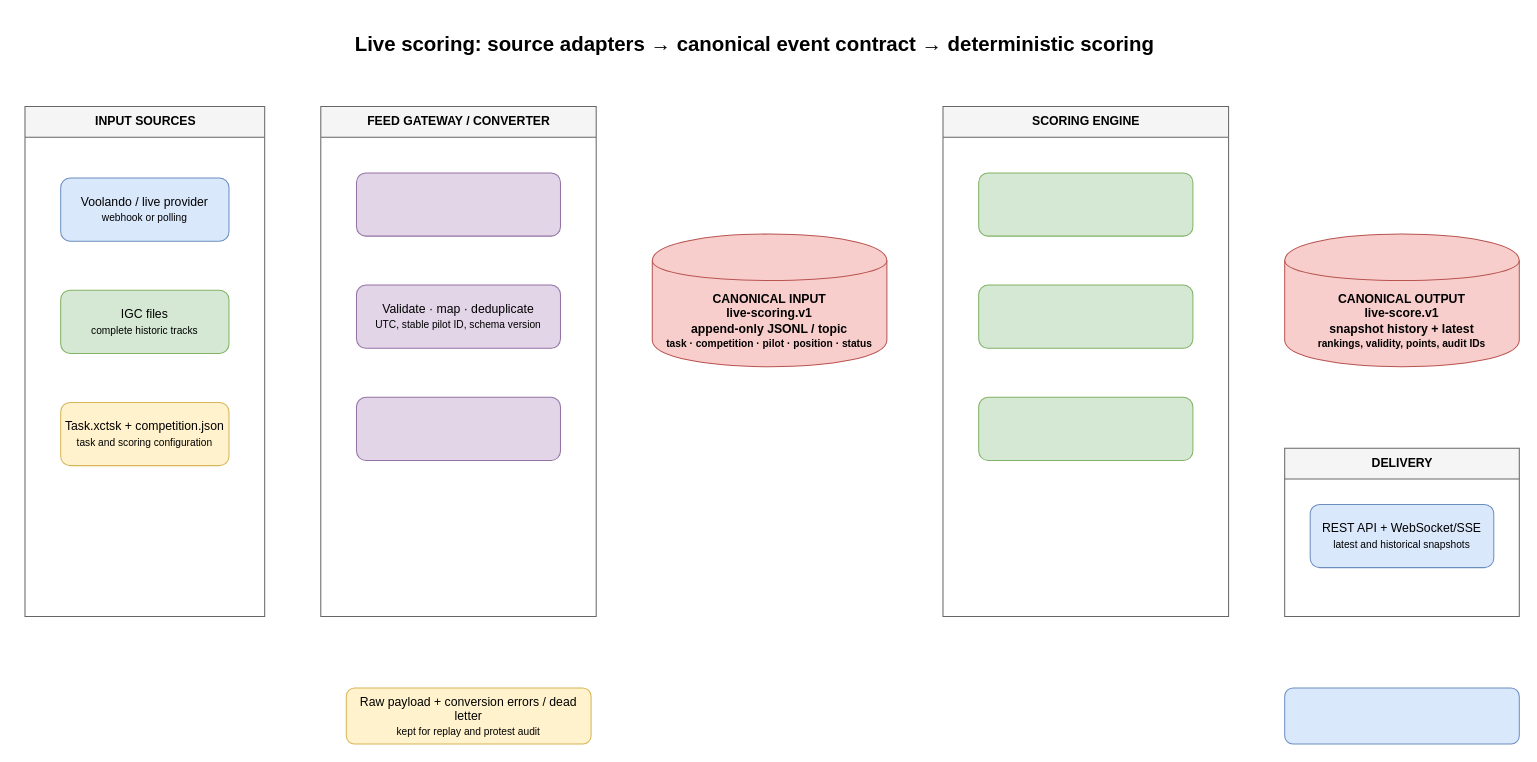
This 1537x762 diagram has some shape labels left out. The centre of each missing label's shape, as x and y in pixels:
"Continuous consumer checkpoint + ordered/idempotent apply" belongs at (1085,204).
"Debounced snapshot publisher provisional result + source sequence" belongs at (1085,428).
"Deterministic scoring core existing engine/: task, replay, GAP, audit" belongs at (1085,316).
"Live frontend / external consumers" belongs at (1401,715).
"Replay controller speed · pause · seek · simulated delay" belongs at (457,428).
"Source adapters Voolando, IGC replay, future sources" belongs at (457,204).
